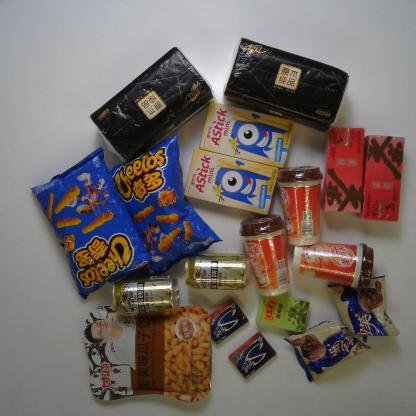Alcohol: (110, 275, 180, 315), (184, 252, 250, 292)
Candy: (254, 294, 310, 332)
Dessert: (182, 146, 280, 217), (199, 95, 294, 168), (286, 317, 372, 384), (326, 274, 401, 342)
Dried Fruit: (83, 304, 216, 404)
Gum: (229, 330, 278, 380), (204, 299, 247, 344)
Instant Drink: (290, 236, 377, 291), (237, 216, 293, 296), (358, 134, 404, 226), (320, 125, 366, 215), (276, 165, 326, 247)
Puffed Food: (28, 147, 152, 300), (106, 133, 223, 276)
Tissue: (90, 46, 214, 164), (225, 36, 349, 133)
